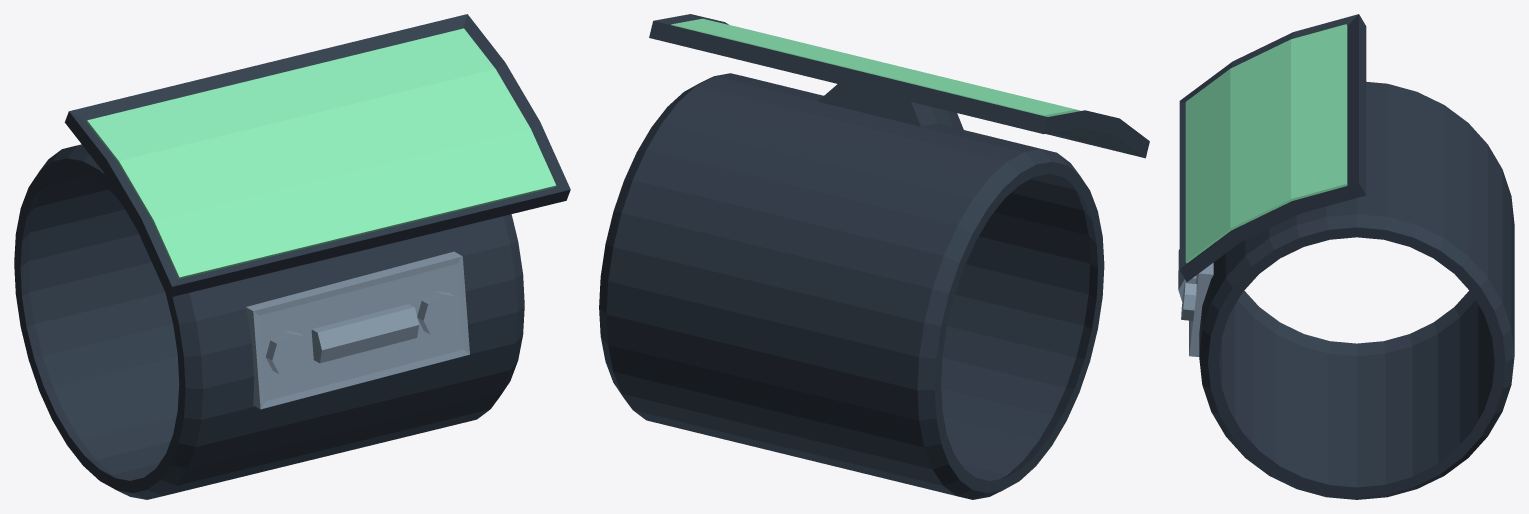
The model's file is Wrist.fbx.
3 renders of one model, left to right at view 1: azimuth 30°, elevation 25°; view 2: azimuth 150°, elevation 25°; view 3: azimuth 270°, elevation 25°, orthographic. The views are drawn at different scales.
Parts seen in each view (by area): view 1: Wrist, Screen, Buttons, Screen-Mount; view 2: Wrist, Screen-Mount, Screen; view 3: Wrist, Screen, Screen-Mount, Buttons.
Part boxes in pixels (bbox=[...]): Wrist: bbox=[14, 144, 524, 499]; Screen: bbox=[86, 28, 556, 278]; Buttons: bbox=[246, 251, 469, 409]; Screen-Mount: bbox=[64, 14, 570, 297]; Wrist: bbox=[599, 73, 1104, 499]; Screen-Mount: bbox=[649, 14, 1149, 158]; Screen: bbox=[671, 18, 1081, 116]; Wrist: bbox=[1199, 81, 1514, 499]; Screen: bbox=[1185, 24, 1347, 263]; Screen-Mount: bbox=[1179, 14, 1366, 281]; Buttons: bbox=[1178, 249, 1213, 356].
Bounding box in the file's own units: 254 × 234 × 213.
